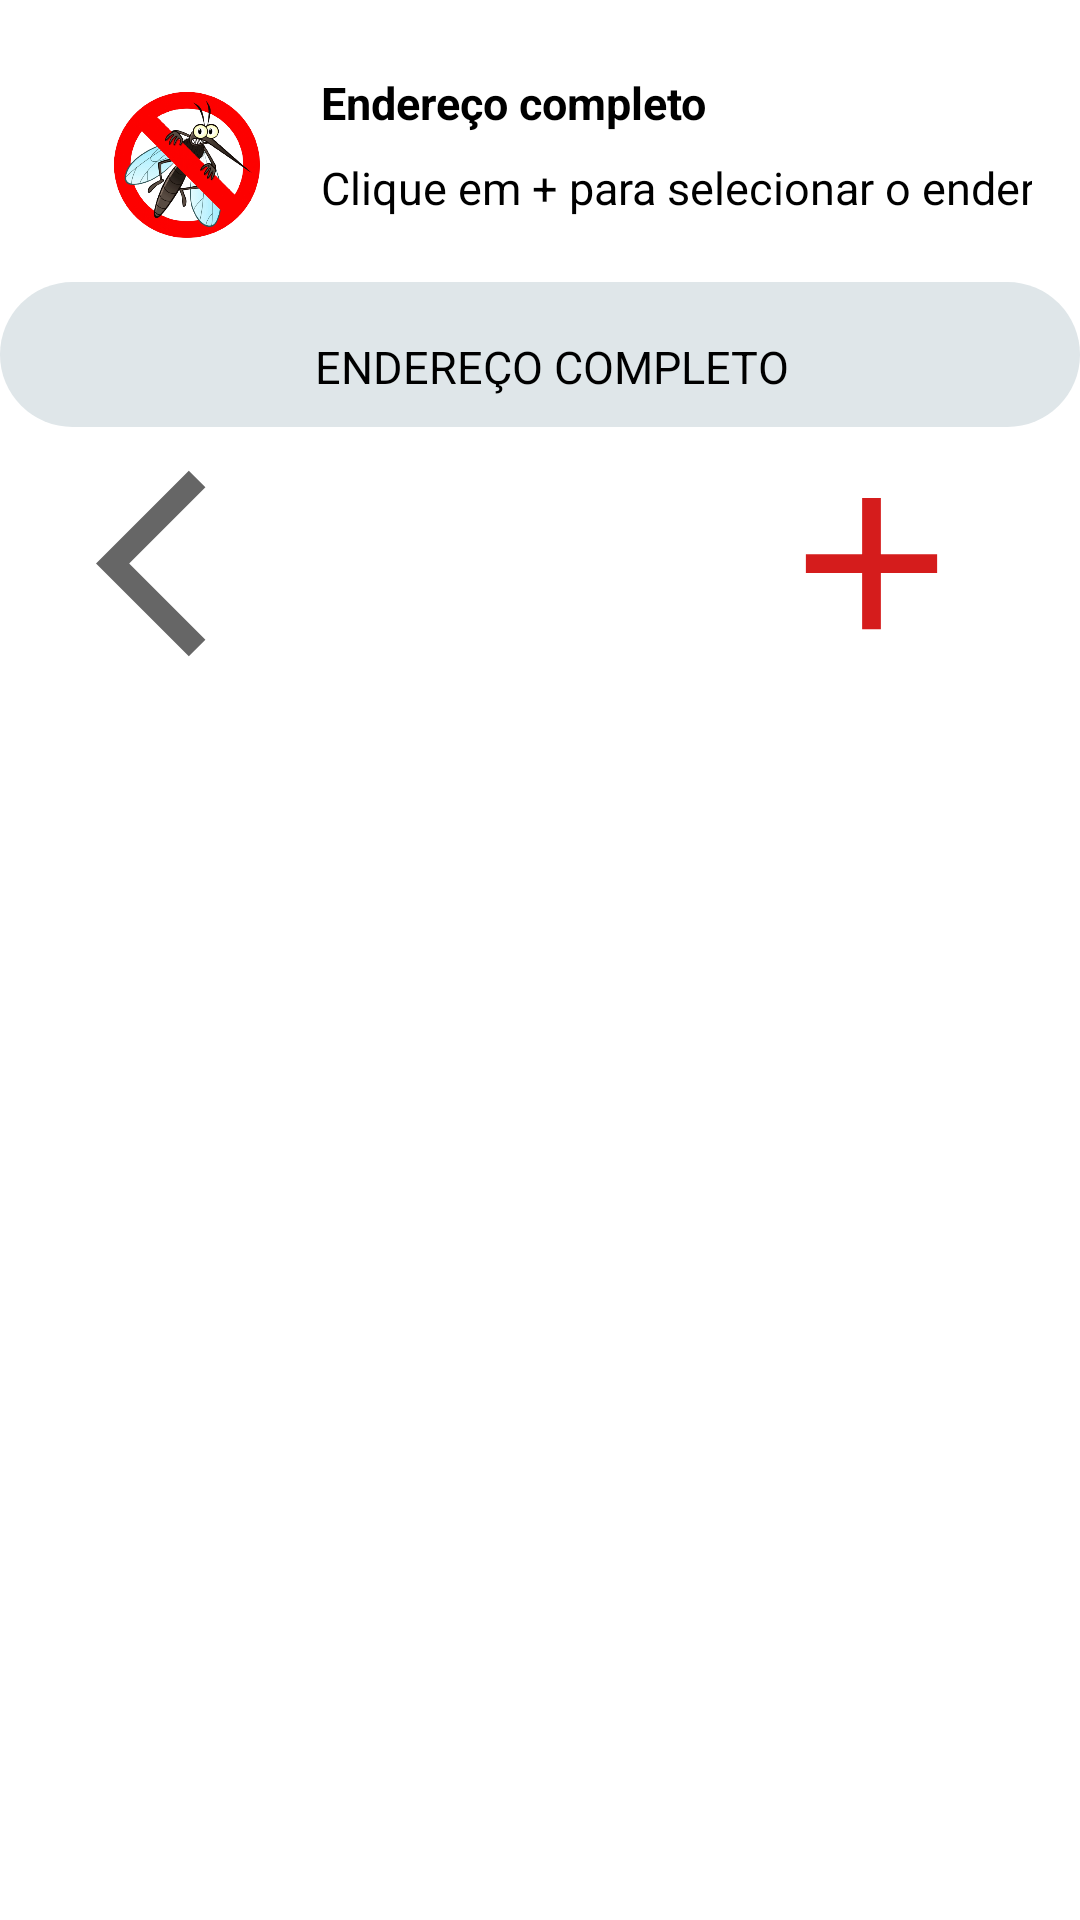

Icon click points for this 1080px x 1920px phone screenshot, format point (x, y):
add: point (871, 564)
arrow back: point (150, 563)
